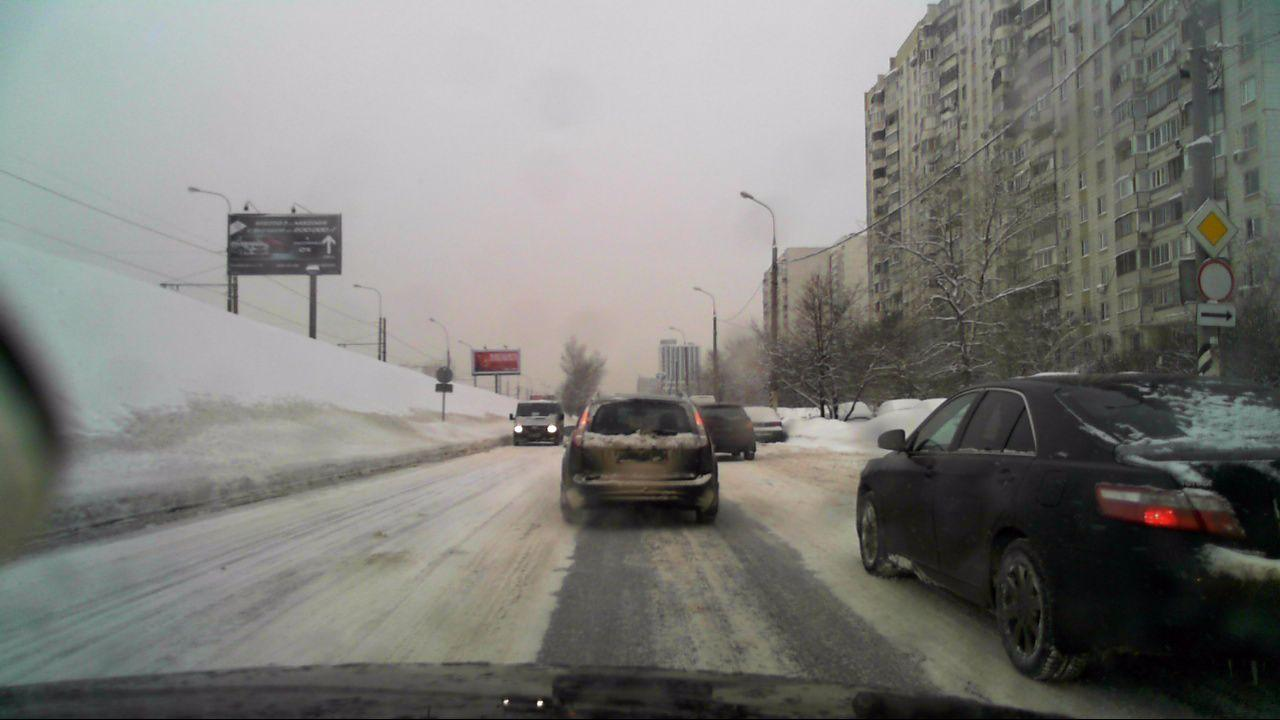2_1: (1185, 196, 1240, 255)
3_2: (1195, 257, 1233, 302)
8_3_1: (1197, 304, 1238, 329)
